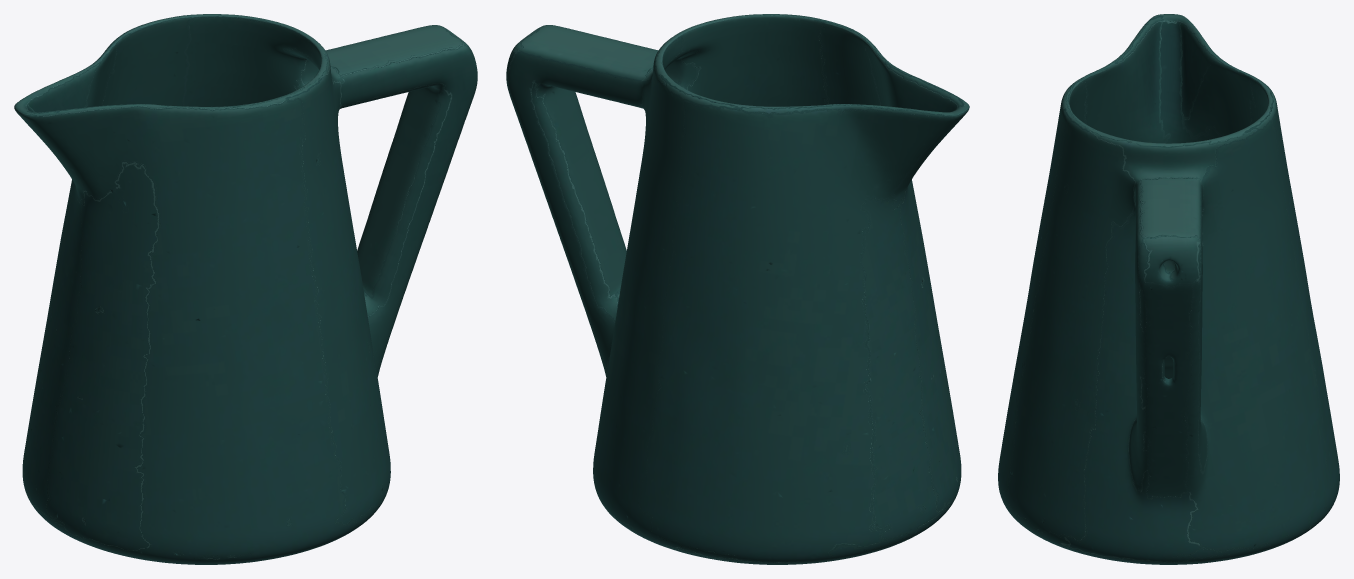
3 views of the same model, side by side, from view 1: azimuth 30°, elevation 25°; view 2: azimuth 150°, elevation 25°; view 3: azimuth 270°, elevation 25° (orthographic). The views are drawn at different scales.
Bounding box in the file's own units: 1.47 × 1.37 × 1.05.
Materials: 1 (1 with a texture image).
